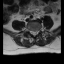CCS_normal: (33, 28, 35, 38)
LFS_normal: (38, 27, 40, 34)
LLS_normal: (35, 28, 38, 36)
RFS_normal: (28, 27, 30, 34)
RLS_normal: (31, 28, 33, 36)
